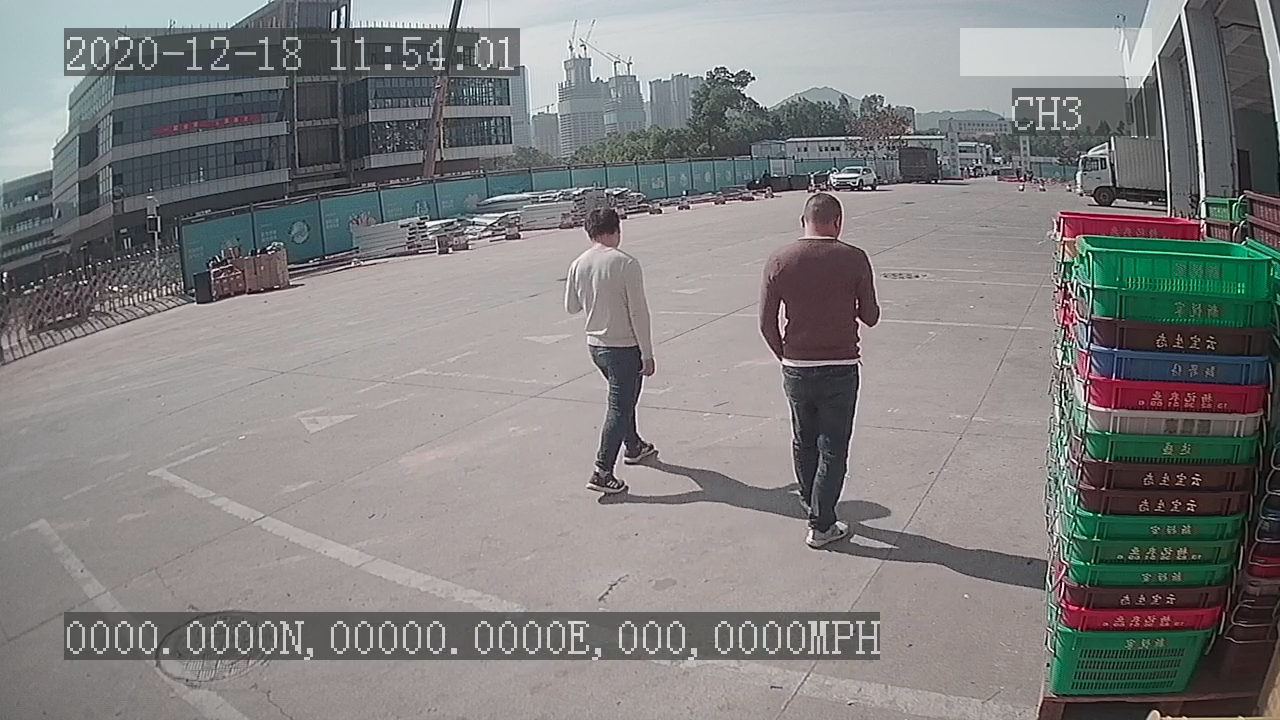person: (745, 185, 886, 549), (554, 204, 665, 501)
